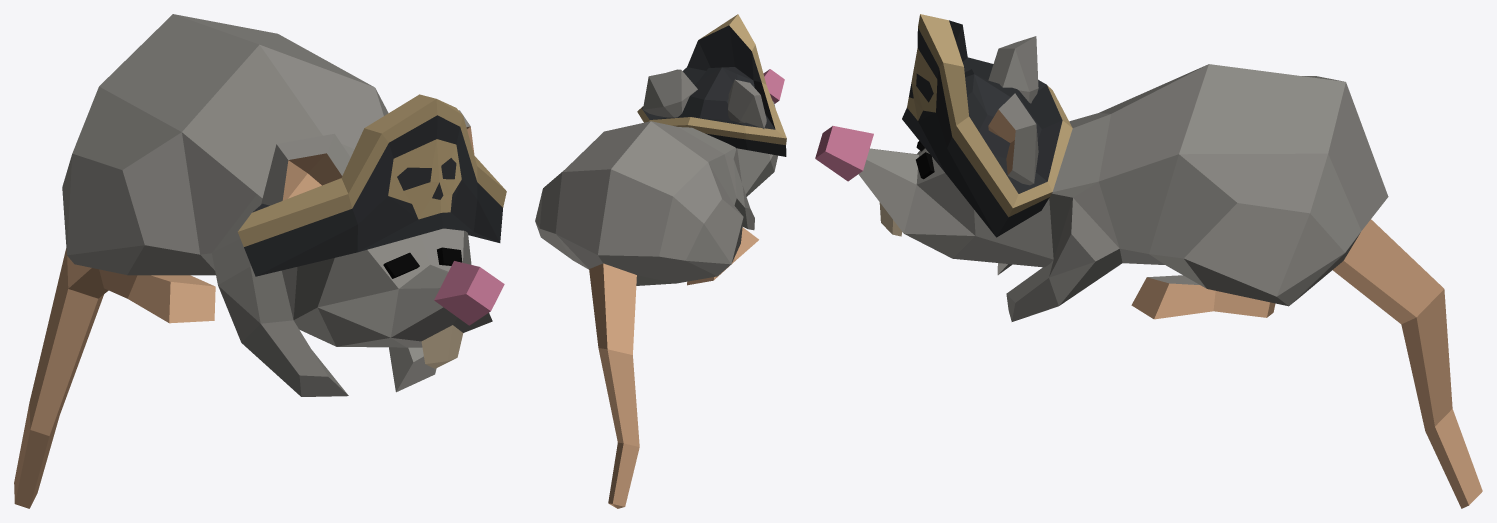
File: SM_Prop_Pet_RatHat_01.fbx
3 views of the same model, side by side, from view 1: azimuth 30°, elevation 25°; view 2: azimuth 150°, elevation 25°; view 3: azimuth 270°, elevation 25° (orthographic). The views are drawn at different scales.
Parts seen in each view (by area): view 1: SM_Prop_Pet_RatHat_01; view 2: SM_Prop_Pet_RatHat_01; view 3: SM_Prop_Pet_RatHat_01.
Boxes of the visible parts, box(x1,y1,x2,y2) form: SM_Prop_Pet_RatHat_01: box(14, 14, 506, 508); SM_Prop_Pet_RatHat_01: box(535, 14, 786, 508); SM_Prop_Pet_RatHat_01: box(815, 14, 1482, 508).
Size of the model in its own units: 14.89 by 26.42 by 29.76.
